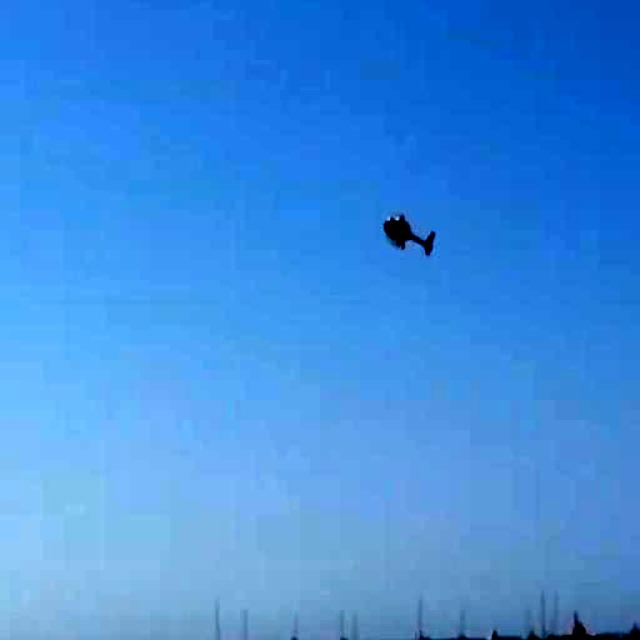drone: (378, 205, 440, 266)
